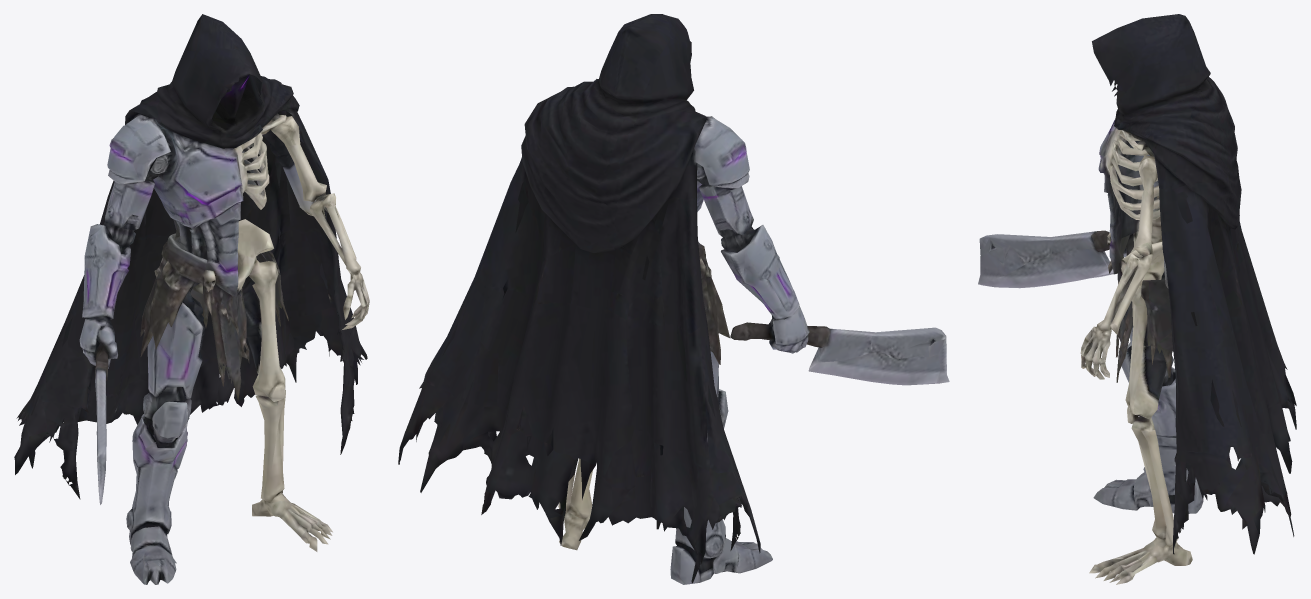
File: statue-11.glb
The picture shows the model from 3 angles, left to right: view 1: azimuth 30°, elevation 25°; view 2: azimuth 150°, elevation 25°; view 3: azimuth 270°, elevation 25°; orthographic projection. The views are drawn at different scales.
Visible parts, largest first — view 1: body; view 2: body; view 3: body.
Part boxes in pixels (<box>): body: <box>14,14,369,584</box>; body: <box>398,14,949,584</box>; body: <box>978,14,1296,584</box>.
Bounding box in the file's own units: 0.7907 × 0.9979 × 0.5486.
Materials: 1 (1 with a texture image).
